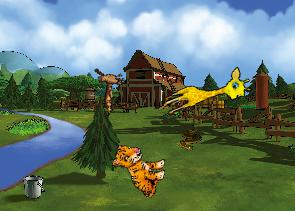eagle: (81, 57, 137, 116)
giraffe: (159, 64, 254, 126)
tiger: (106, 141, 170, 199)
